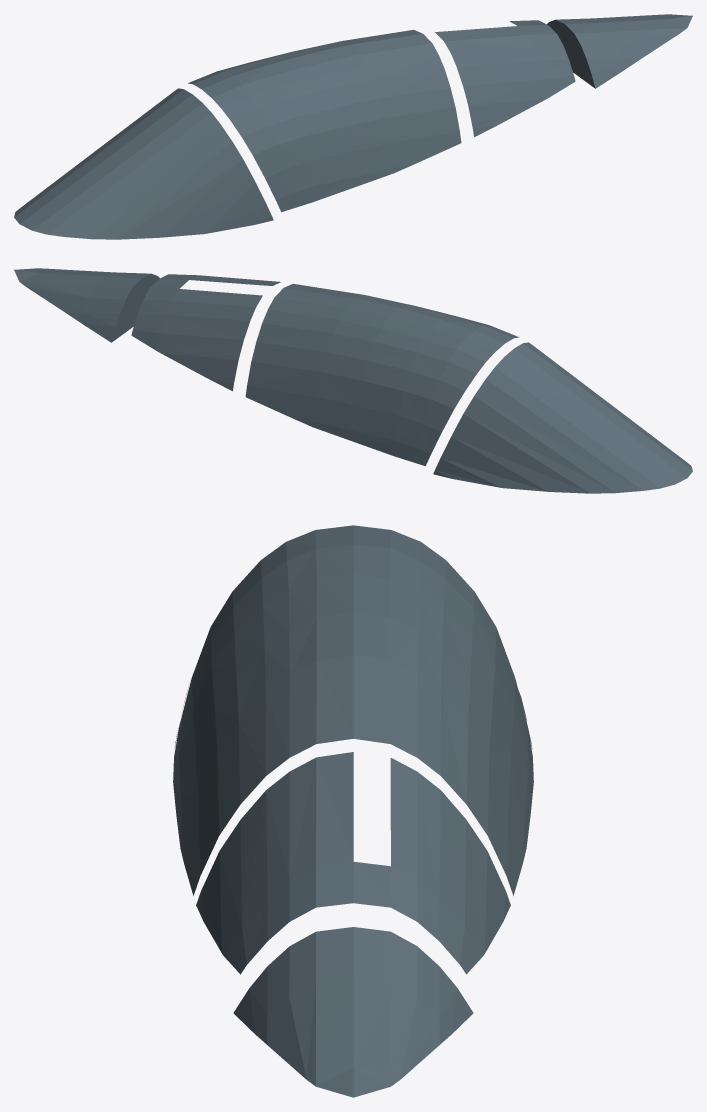
The model's file is su37.glass.glb.
3 views of the same model, one above another, from view 1: azimuth 30°, elevation 25°; view 2: azimuth 150°, elevation 25°; view 3: azimuth 270°, elevation 25° (orthographic). The views are drawn at different scales.
Visible parts, largest first — view 1: glass; view 2: glass; view 3: glass.
Part boxes in pixels (left/top/right/bottom): glass: left=14, top=14, right=692, bottom=239; glass: left=14, top=268, right=692, bottom=493; glass: left=173, top=525, right=533, bottom=1097.
Bounding box in the file's own units: 4.03 × 0.6552 × 0.9357.
